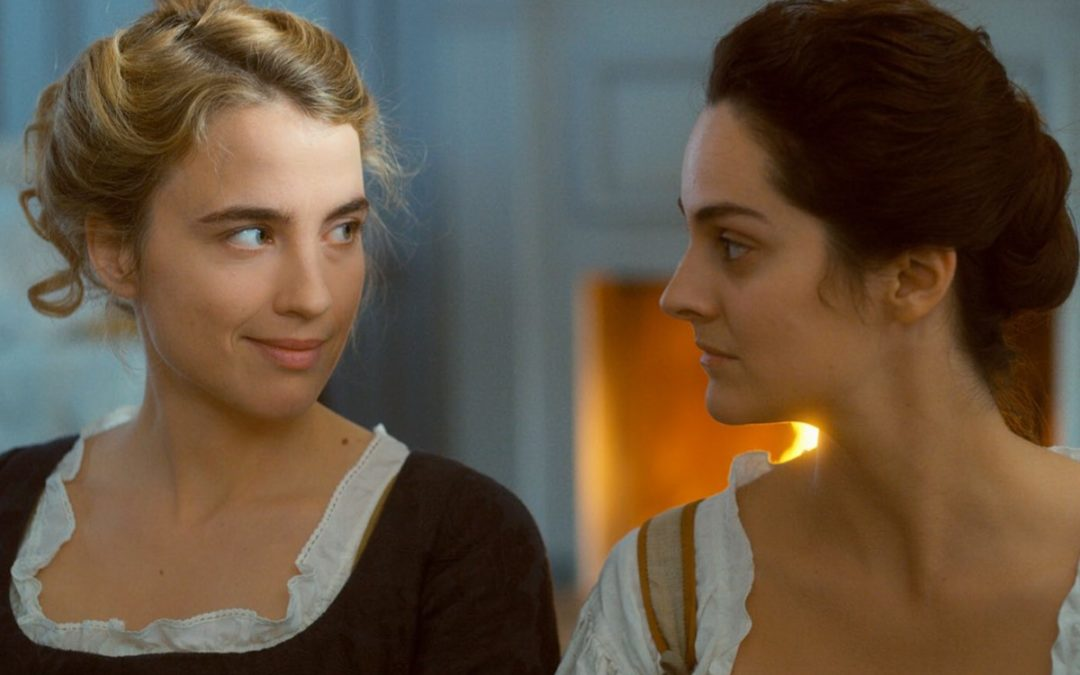bare: (139, 262, 375, 414), (657, 277, 855, 425)
